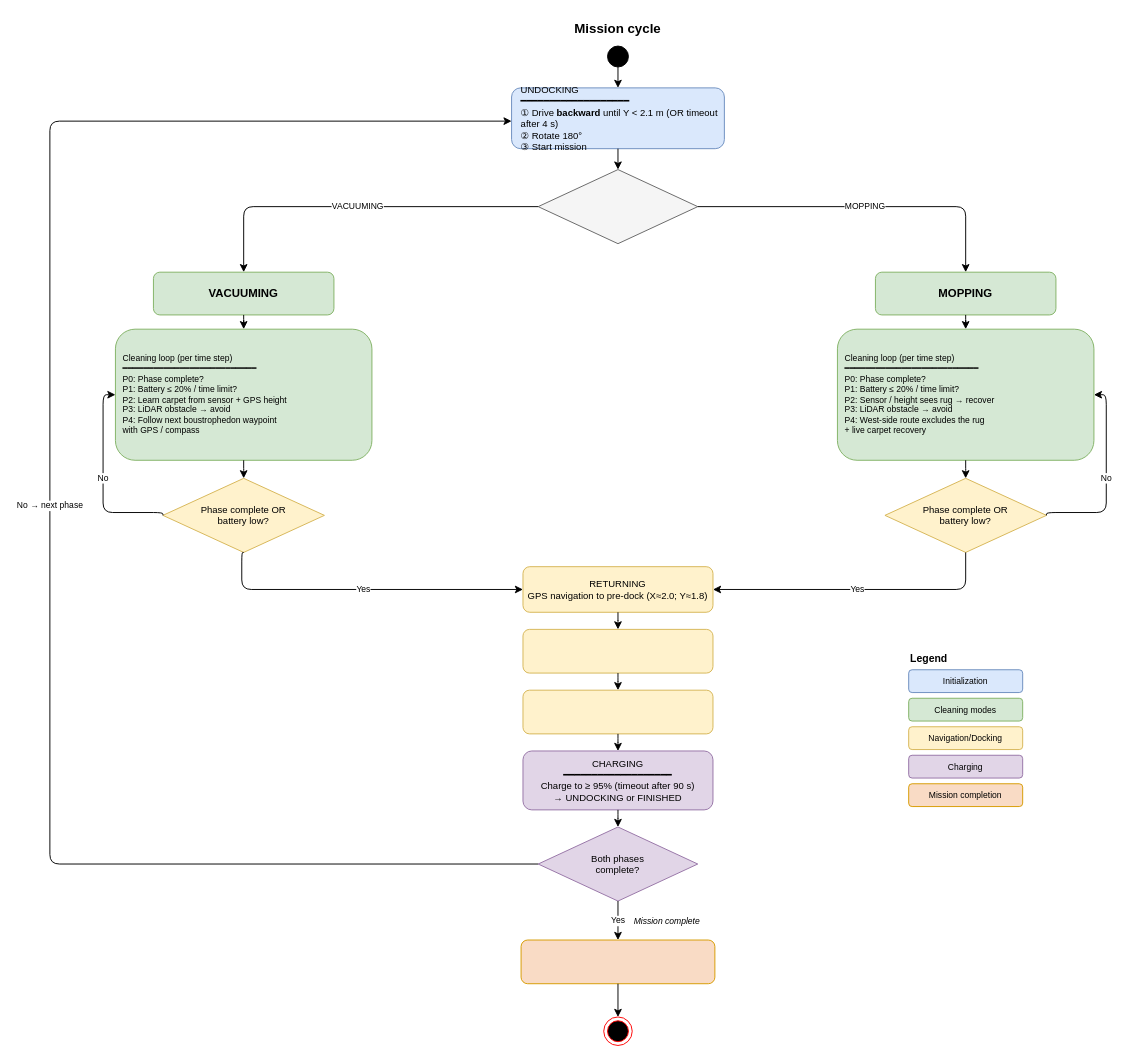
The diagram is 1131 pixels wide and 1062 high, and some of its shapes have lost their labels. Each missing label, with the centre of its shape:
Active mission_phase?: pixel 617 206
ALIGNING PID heading control → 0° (timeout after 10 s): pixel 617 650
DOCKING Drive to charger; dock contact → complete: pixel 617 711
FINISHED Mission complete — robot stops: pixel 617 961
